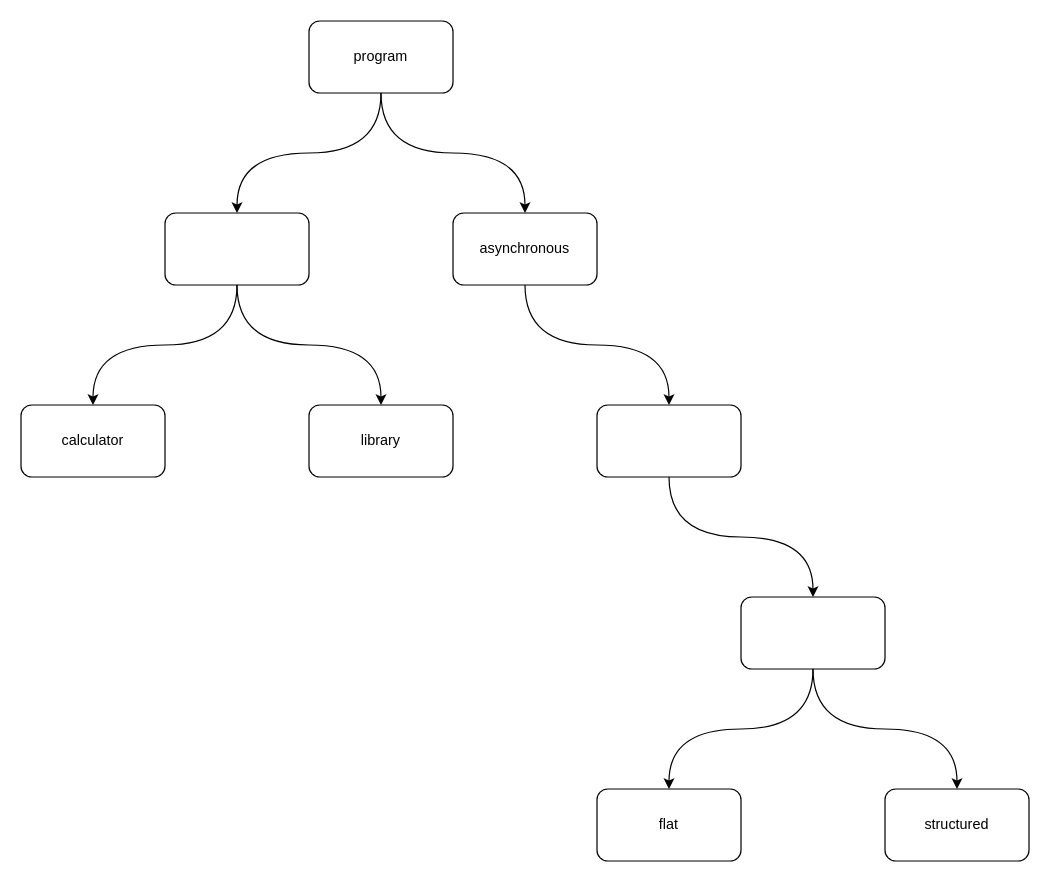
This 1050x882 diagram has some shape labels left out. The shapes that lost their labels are listed below. From the top down, each one's centre as x and y in pixels, then its label:
At [236,248]: "sequential".
At [668,440]: "component".
At [812,632]: "message passing".
